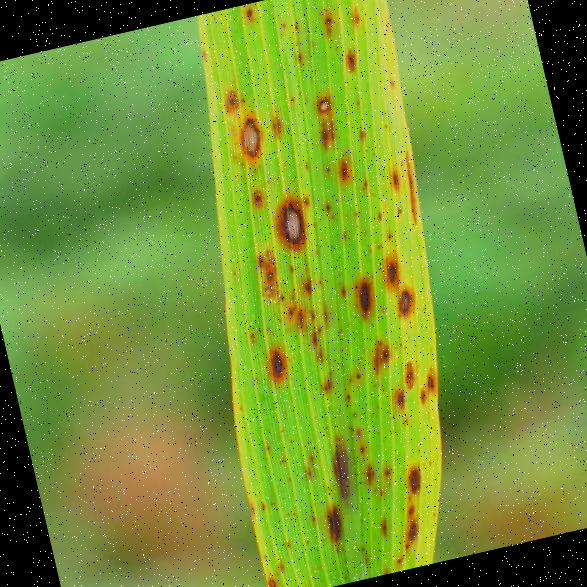Brown_Spot: (308, 426, 370, 514), (268, 188, 316, 248), (337, 263, 382, 319), (386, 496, 427, 556), (229, 108, 270, 166), (310, 503, 356, 552), (254, 335, 295, 389), (358, 326, 403, 374), (395, 450, 439, 498), (394, 146, 420, 226), (372, 243, 409, 291), (323, 147, 366, 187), (209, 77, 249, 113), (304, 4, 335, 45), (390, 279, 420, 319), (392, 352, 419, 390), (417, 360, 442, 400), (302, 91, 339, 118), (376, 161, 402, 198), (383, 382, 412, 412), (232, 1, 260, 25), (336, 44, 358, 73), (343, 2, 367, 28), (258, 574, 283, 587)
